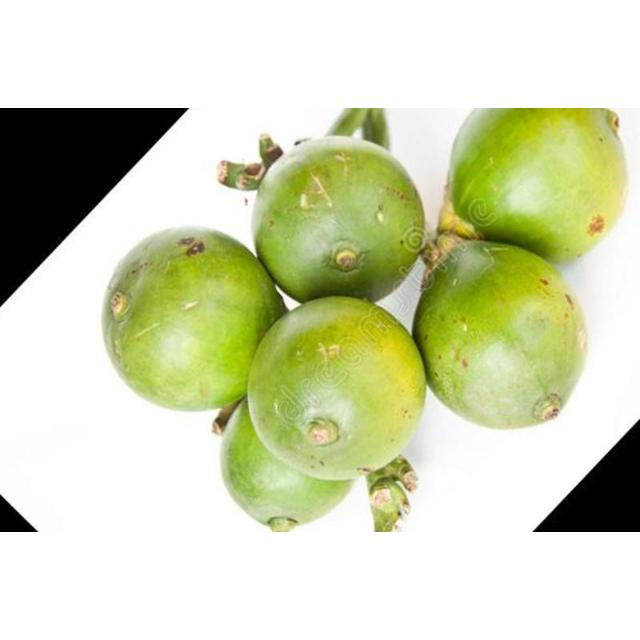good: (102, 228, 282, 412), (246, 298, 426, 480), (414, 240, 586, 430), (253, 135, 424, 305), (446, 109, 626, 264), (222, 398, 358, 530)
